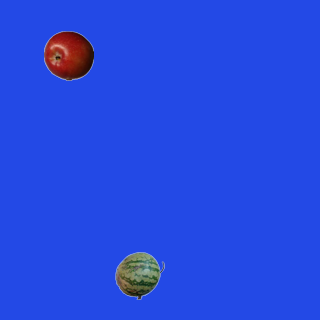Apple Braeburn: (43, 30, 93, 80)
Watermelon: (114, 250, 164, 300)
